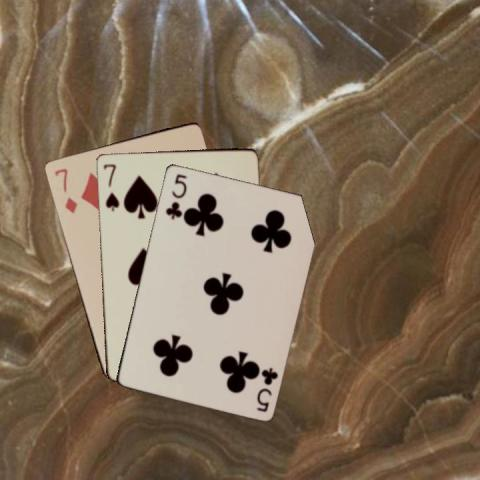5c: (253, 364, 280, 413), (162, 170, 188, 220)
7d: (51, 165, 79, 215)
7s: (100, 160, 120, 213)
